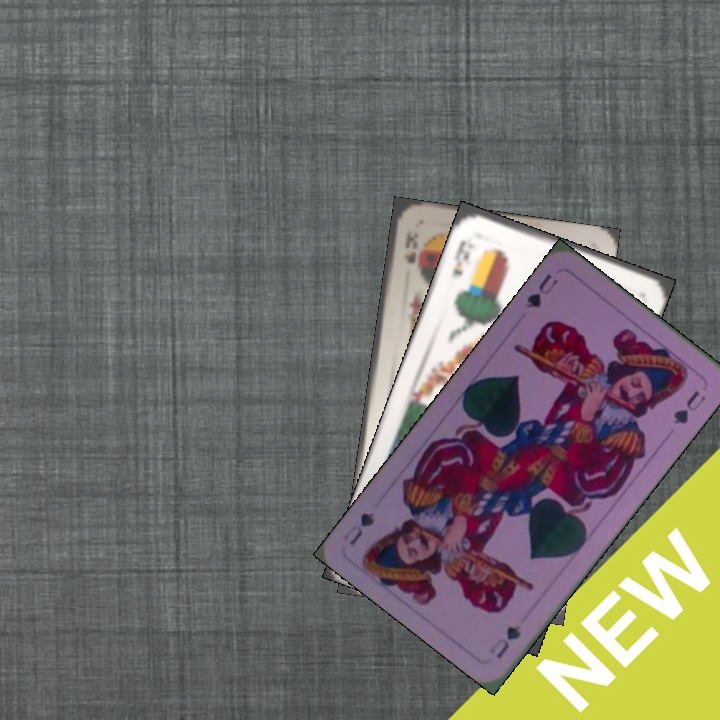EK: (448, 236, 473, 281)
GU: (485, 621, 525, 661), (523, 270, 561, 311)
SK: (400, 227, 419, 267)
